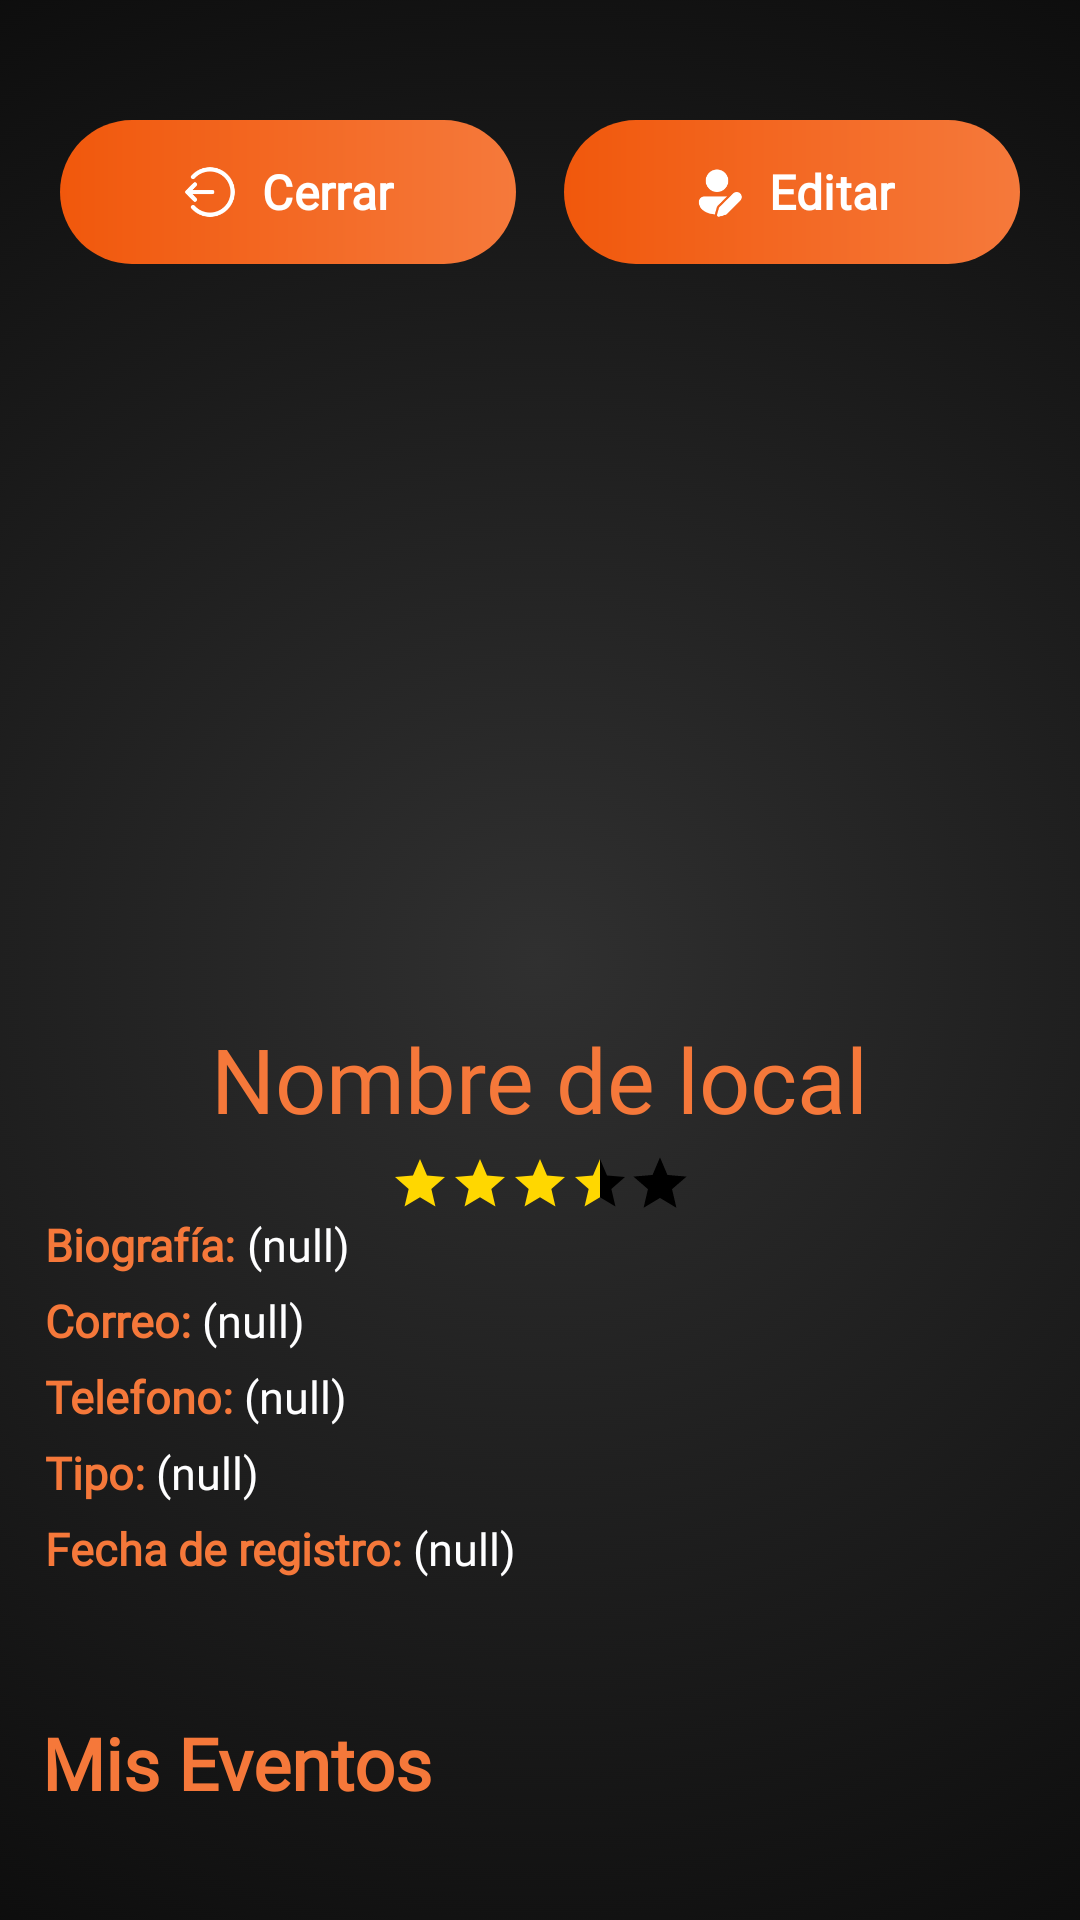

Named icons in this screenshot (1080w x 1920h) and their centers, (x=x, y=y):
star: (x=420, y=1183), (x=480, y=1183), (x=540, y=1183), (x=660, y=1183)
star half: (x=599, y=1183)
